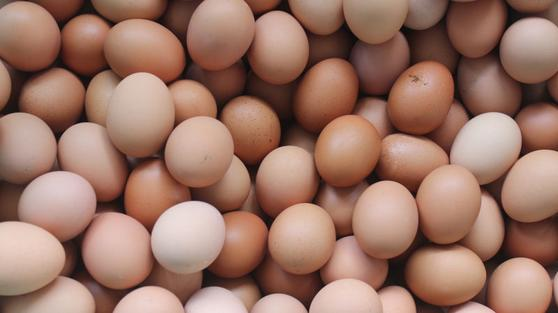egg: (105, 70, 176, 156), (151, 197, 227, 274), (266, 202, 339, 275), (313, 115, 380, 187)
